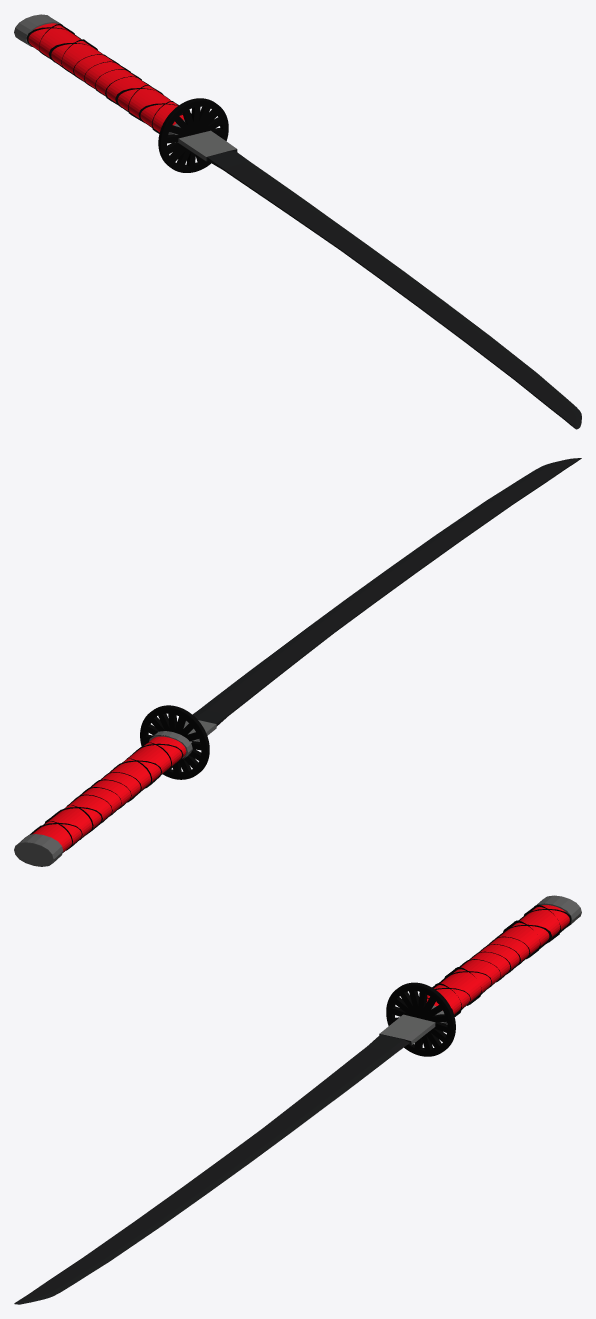
File: katana tanjiro.fbx
3 views of the same model, one above another, from view 1: azimuth 30°, elevation 25°; view 2: azimuth 150°, elevation 25°; view 3: azimuth 330°, elevation 25° (orthographic).
Visible parts, largest first — view 1: KATANA tanjiro; view 2: KATANA tanjiro; view 3: KATANA tanjiro.
Part boxes in pixels (x1,y1,x2,y2): KATANA tanjiro: (14, 14, 581, 429); KATANA tanjiro: (14, 458, 581, 866); KATANA tanjiro: (14, 895, 581, 1304).
Size of the model in its own units: 59.01 by 59.02 by 821.
